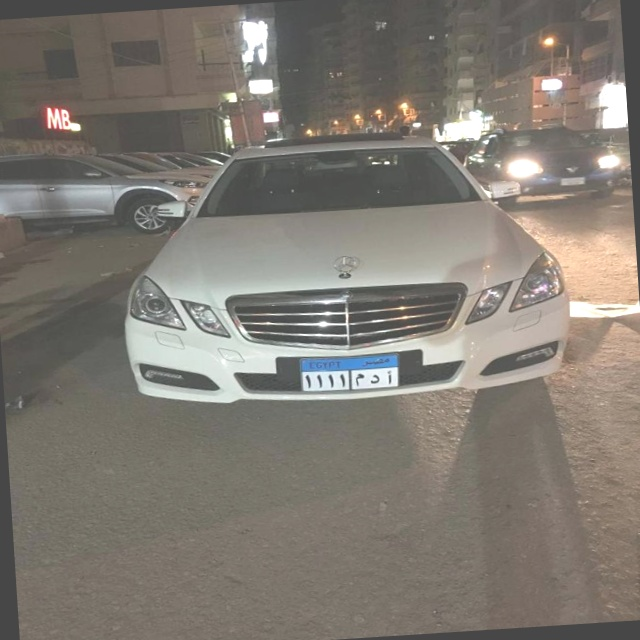License Plate: (297, 351, 402, 395)
